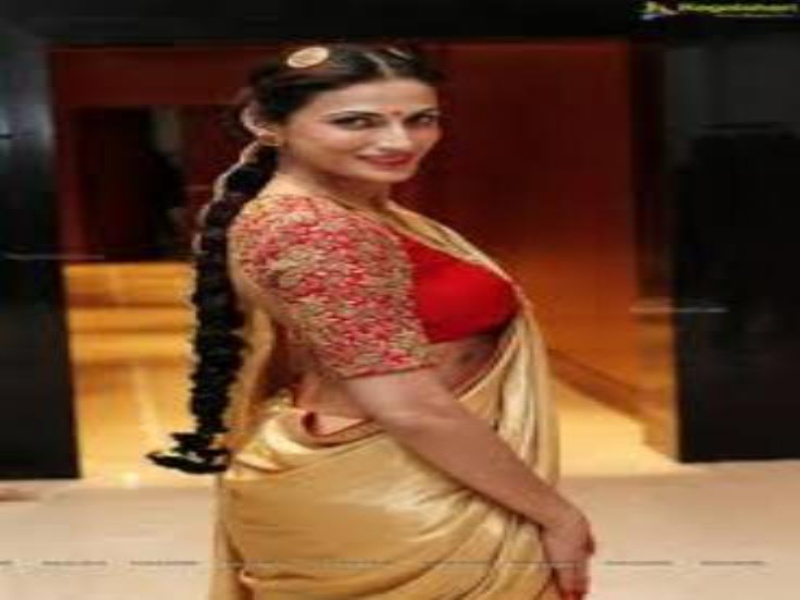TsisyArotava: (301, 49, 454, 203)
